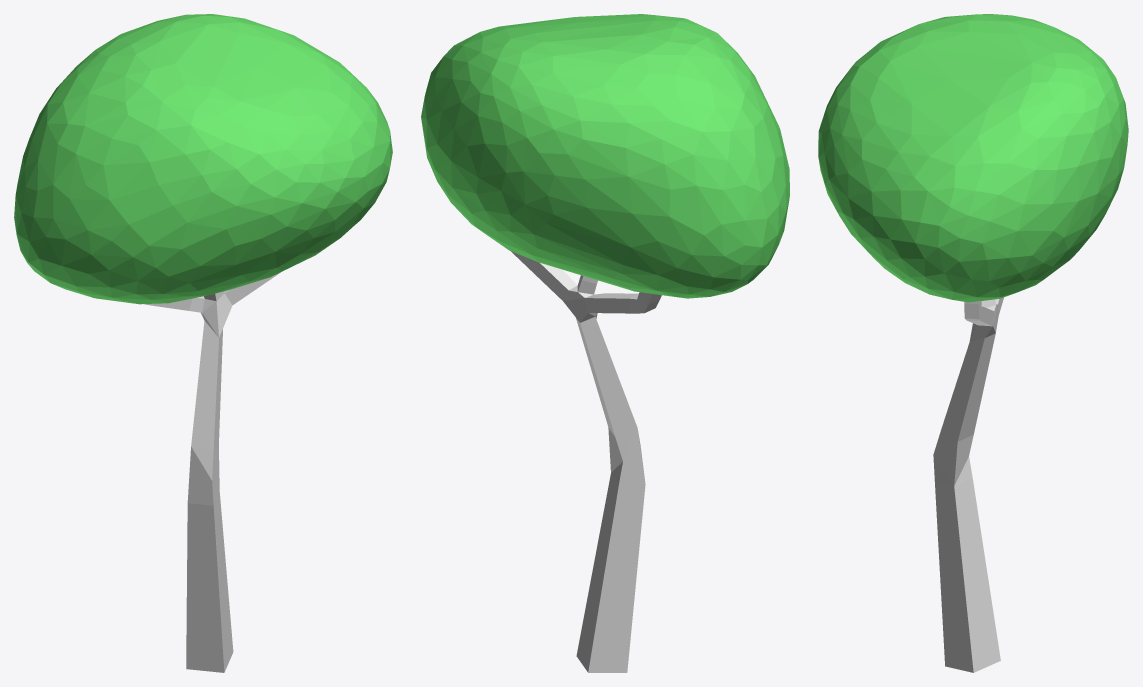
The model's file is lowtree3.fbx.
3 views of the same model, side by side, from view 1: azimuth 30°, elevation 25°; view 2: azimuth 150°, elevation 25°; view 3: azimuth 270°, elevation 25° (orthographic). The views are drawn at different scales.
Visible parts, largest first — view 1: Icosphere.001; view 2: Icosphere.001; view 3: Icosphere.001.
Part boxes in pixels (x1,y1,x2,y2): Icosphere.001: (14, 14, 392, 672); Icosphere.001: (421, 14, 789, 672); Icosphere.001: (818, 14, 1128, 672).
Size of the model in its own units: 85.88 by 148 by 67.52.
